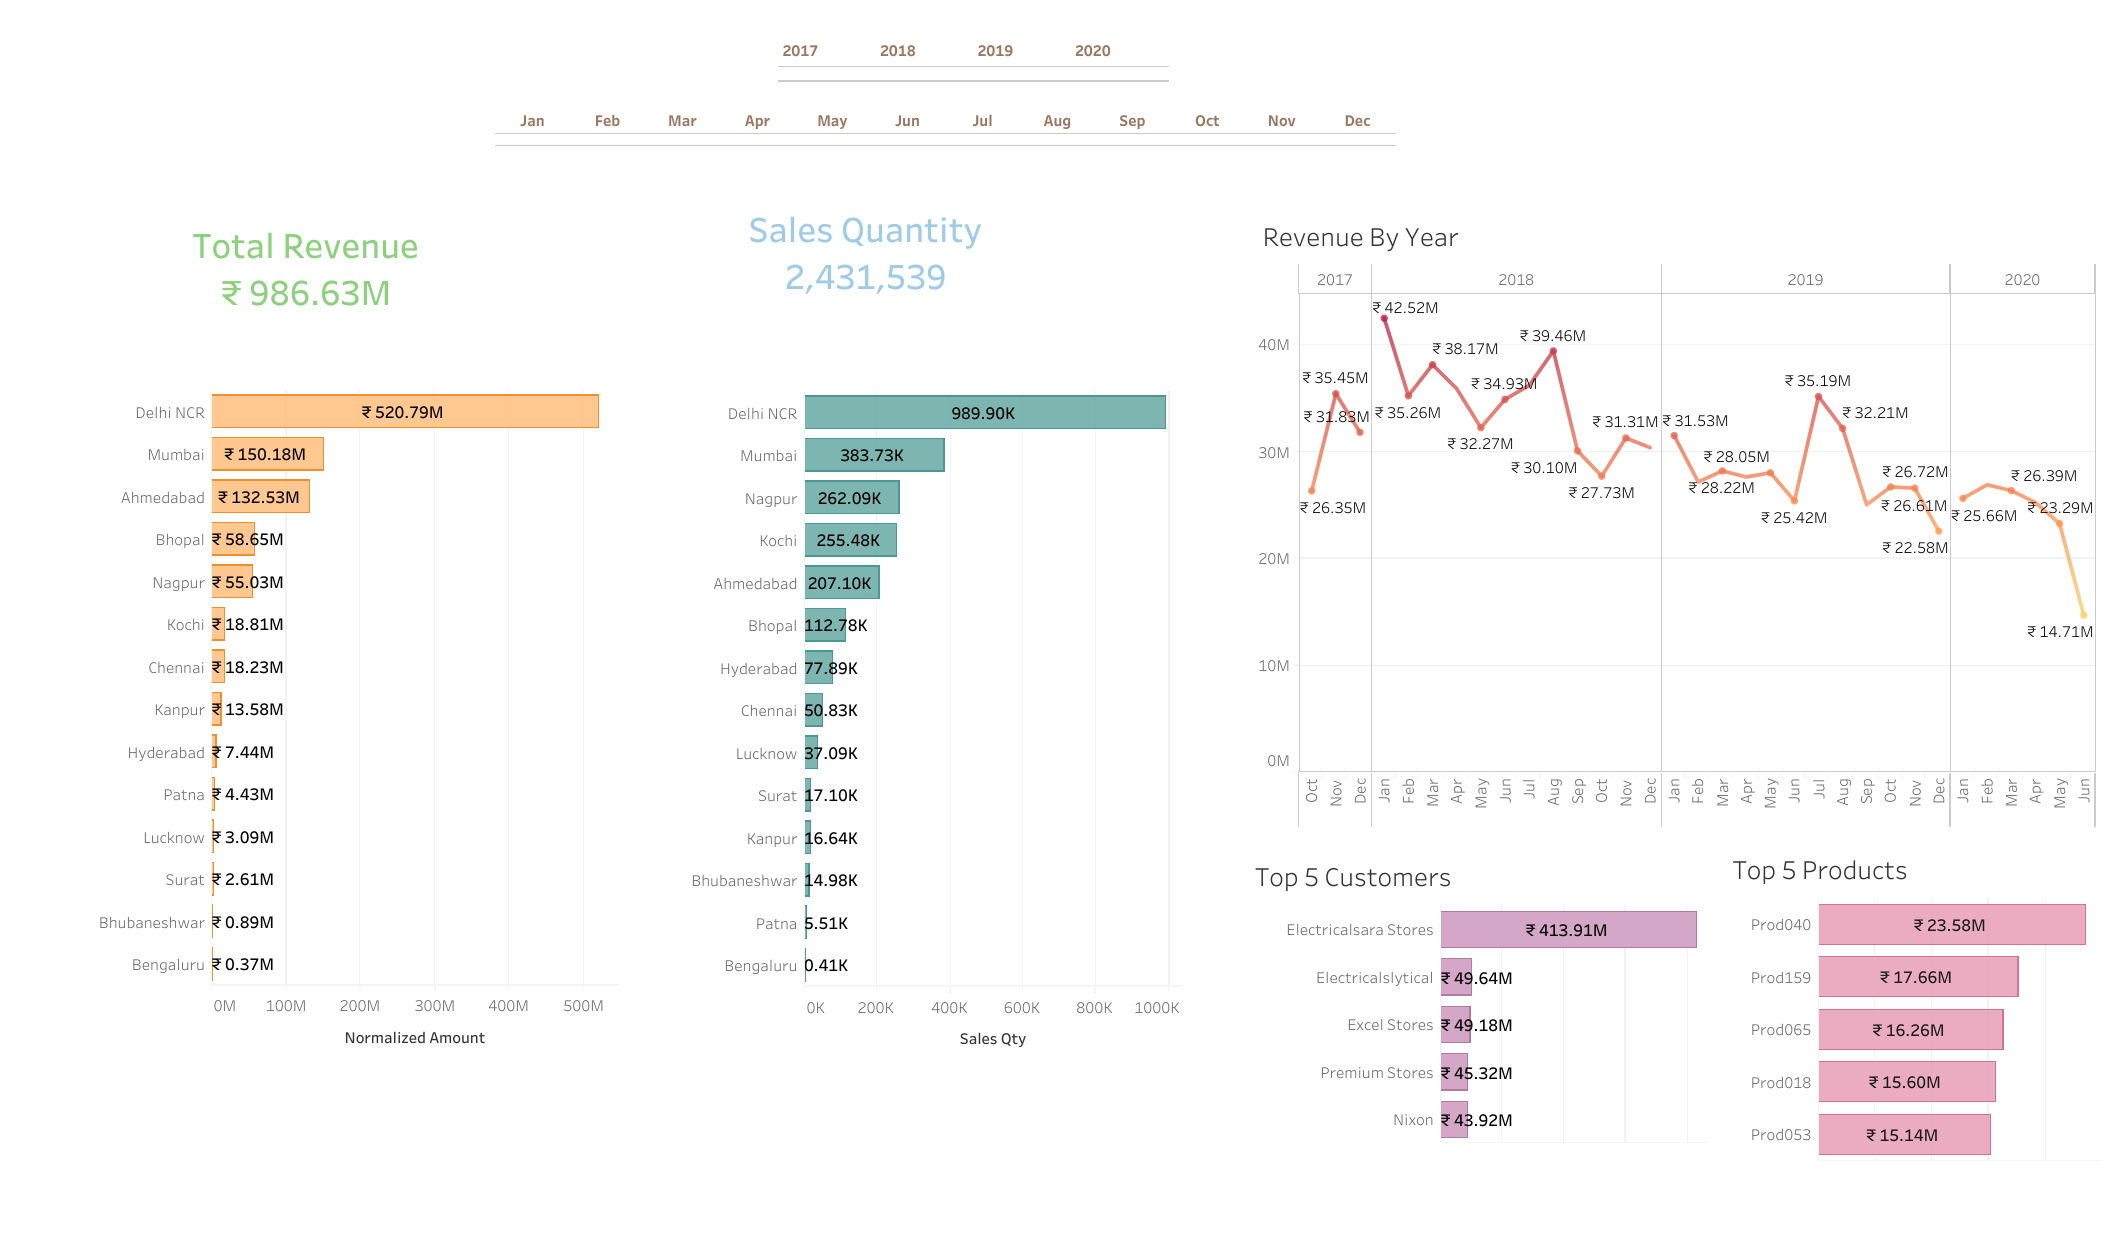

What the dashboard file says about the page in this screenshot:
{"tool":"tableau","page":{"name":"Dashboard","canvas":[1700,1000],"ordinal":0},"visuals":[{"type":"worksheet","title":"Year","mark":"Automatic","cols":["cy_date"],"box":[622,12,317,79]},{"type":"worksheet","title":"Month","mark":"Automatic","cols":["cy_date"],"box":[395.5,85.6,818.3,45.6]},{"type":"worksheet","title":"Revenue","mark":"Automatic","box":[145,161.1,278,131.1]},{"type":"worksheet","title":"Quantity","mark":"Automatic","box":[593,163.3,287,130]},{"type":"worksheet","title":"Revenue By Year","mark":"Automatic","rows":["Calculation_578994079897374720"],"cols":["cy_date","cy_date"],"box":[1006,169,671,493]},{"type":"worksheet","title":"Revenue By Markets","mark":"Automatic","rows":["markets_name"],"cols":["Calculation_578994079897374720"],"box":[65,312.2,430,621.1]},{"type":"worksheet","title":"Sales Quantity By Market","mark":"Automatic","rows":["markets_name"],"cols":["sales_qty"],"box":[527,313.3,419,604.4]},{"type":"worksheet","title":"Top 5 Products","mark":"Automatic","rows":["product_code (products)"],"cols":["Calculation_578994079897374720"],"box":[1382,675,297,289]},{"type":"worksheet","title":"Top 5 Customers","mark":"Automatic","rows":["custmer_name"],"cols":["Calculation_578994079897374720"],"box":[1000,681,367,267]}]}

Visuals, with their boxes in screenshot pixels (x1, y1, x2, y2), scaled from the page's 1700x1000 canvas onto the 2124x1249 screenshot:
"Year" worksheet: box=[777, 15, 1173, 114]
"Month" worksheet: box=[494, 107, 1517, 164]
"Revenue" worksheet: box=[181, 201, 529, 365]
"Quantity" worksheet: box=[741, 204, 1099, 366]
"Revenue By Year" worksheet: box=[1257, 211, 2095, 827]
"Revenue By Markets" worksheet: box=[81, 390, 618, 1166]
"Sales Quantity By Market" worksheet: box=[658, 391, 1182, 1146]
"Top 5 Products" worksheet: box=[1727, 843, 2098, 1204]
"Top 5 Customers" worksheet: box=[1249, 851, 1708, 1184]
